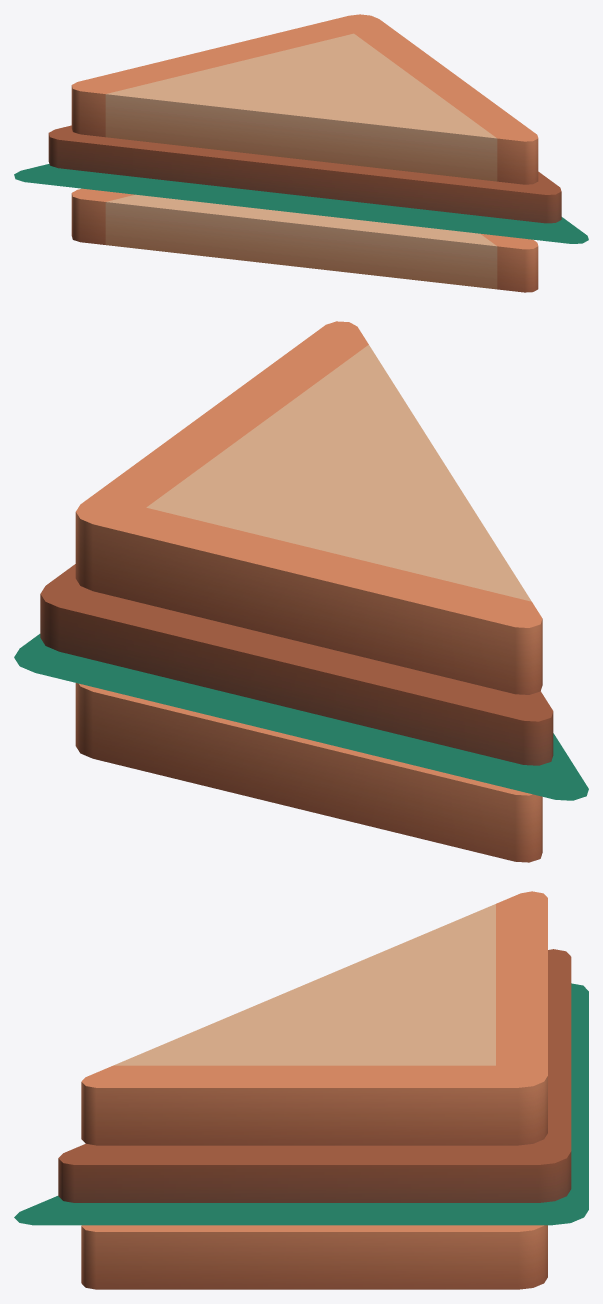
The model's file is food.sandwich.glb.
3 views of the same model, one above another, from view 1: azimuth 30°, elevation 25°; view 2: azimuth 150°, elevation 25°; view 3: azimuth 270°, elevation 25° (orthographic). The views are drawn at different scales.
Visible parts, largest first — view 1: bun (×2), meat, lettuce; view 2: bun (×2), meat, lettuce; view 3: bun (×2), meat, lettuce.
Boxes of the visible parts, left/top/right/bottom form: bun (×2): left=71, top=14, right=538, bottom=292; meat: left=48, top=125, right=561, bottom=223; lettuce: left=14, top=164, right=588, bottom=243; bun (×2): left=75, top=321, right=542, bottom=862; meat: left=40, top=564, right=553, bottom=765; lettuce: left=14, top=634, right=588, bottom=800; bun (×2): left=81, top=891, right=547, bottom=1289; meat: left=58, top=949, right=571, bottom=1202; lettuce: left=14, top=983, right=588, bottom=1225.
Size of the model in its own units: 0.1284 by 0.0499 by 0.1289.
Materials: 1 (1 with a texture image).
